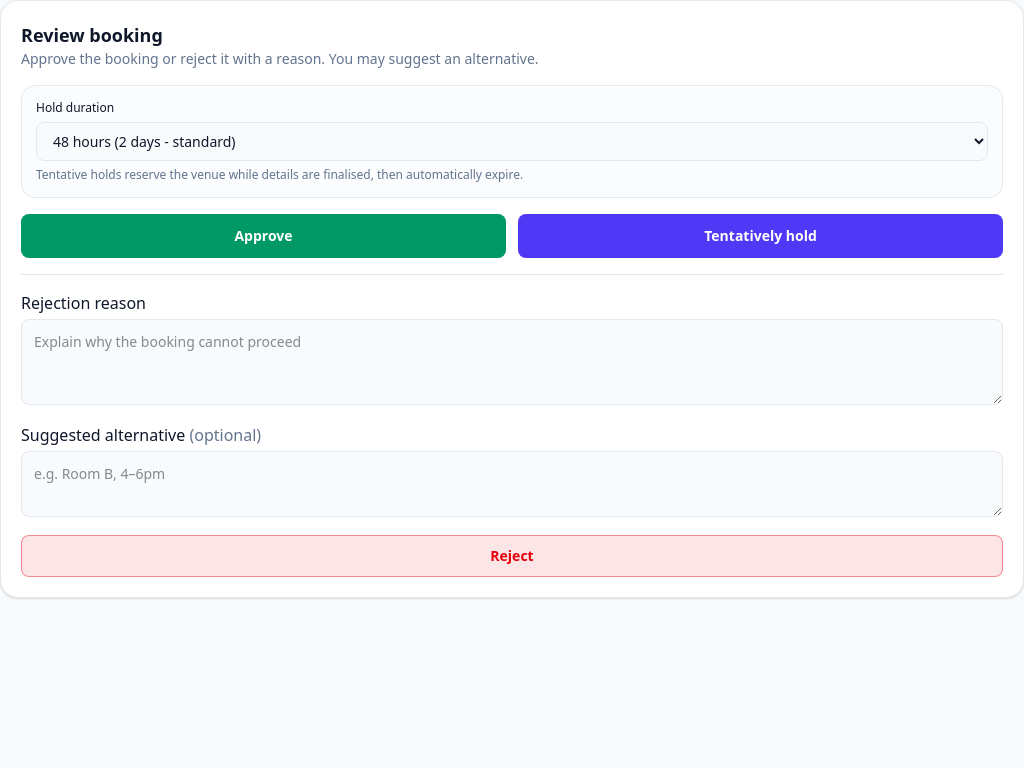
it: booking decision failure does not report a saved change: {}
Click the button "Approve" at (264, 236), box [21,214,506,258]
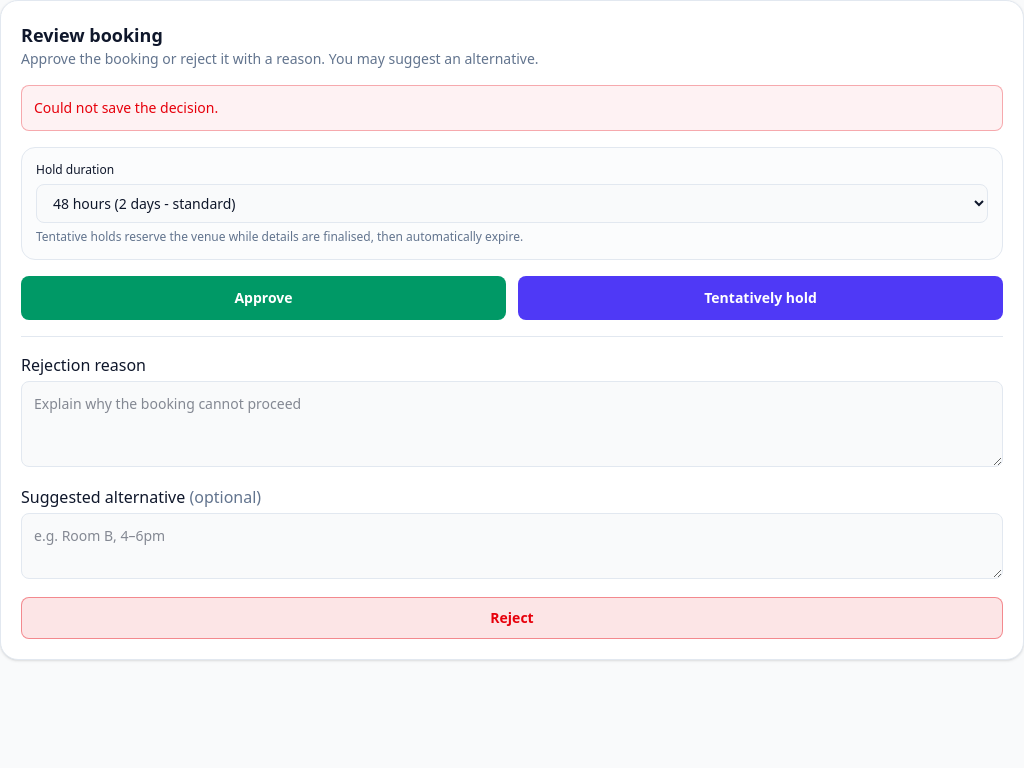
Check: the message reads "Could not save the decision.", box [34,98,218,117]
